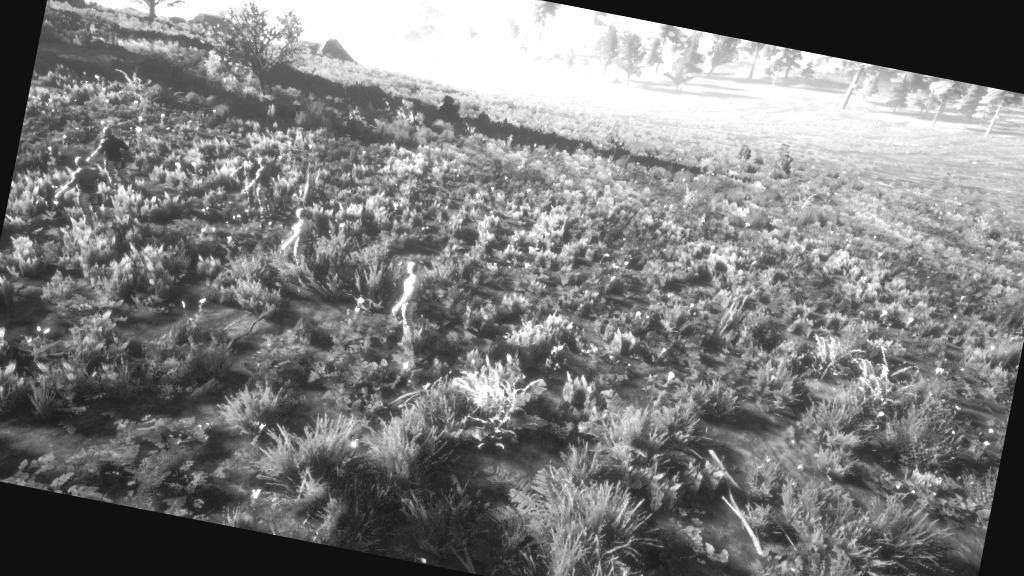human: (213, 124, 302, 236), (44, 143, 120, 246), (376, 250, 445, 358), (266, 193, 338, 279), (80, 114, 148, 195)
